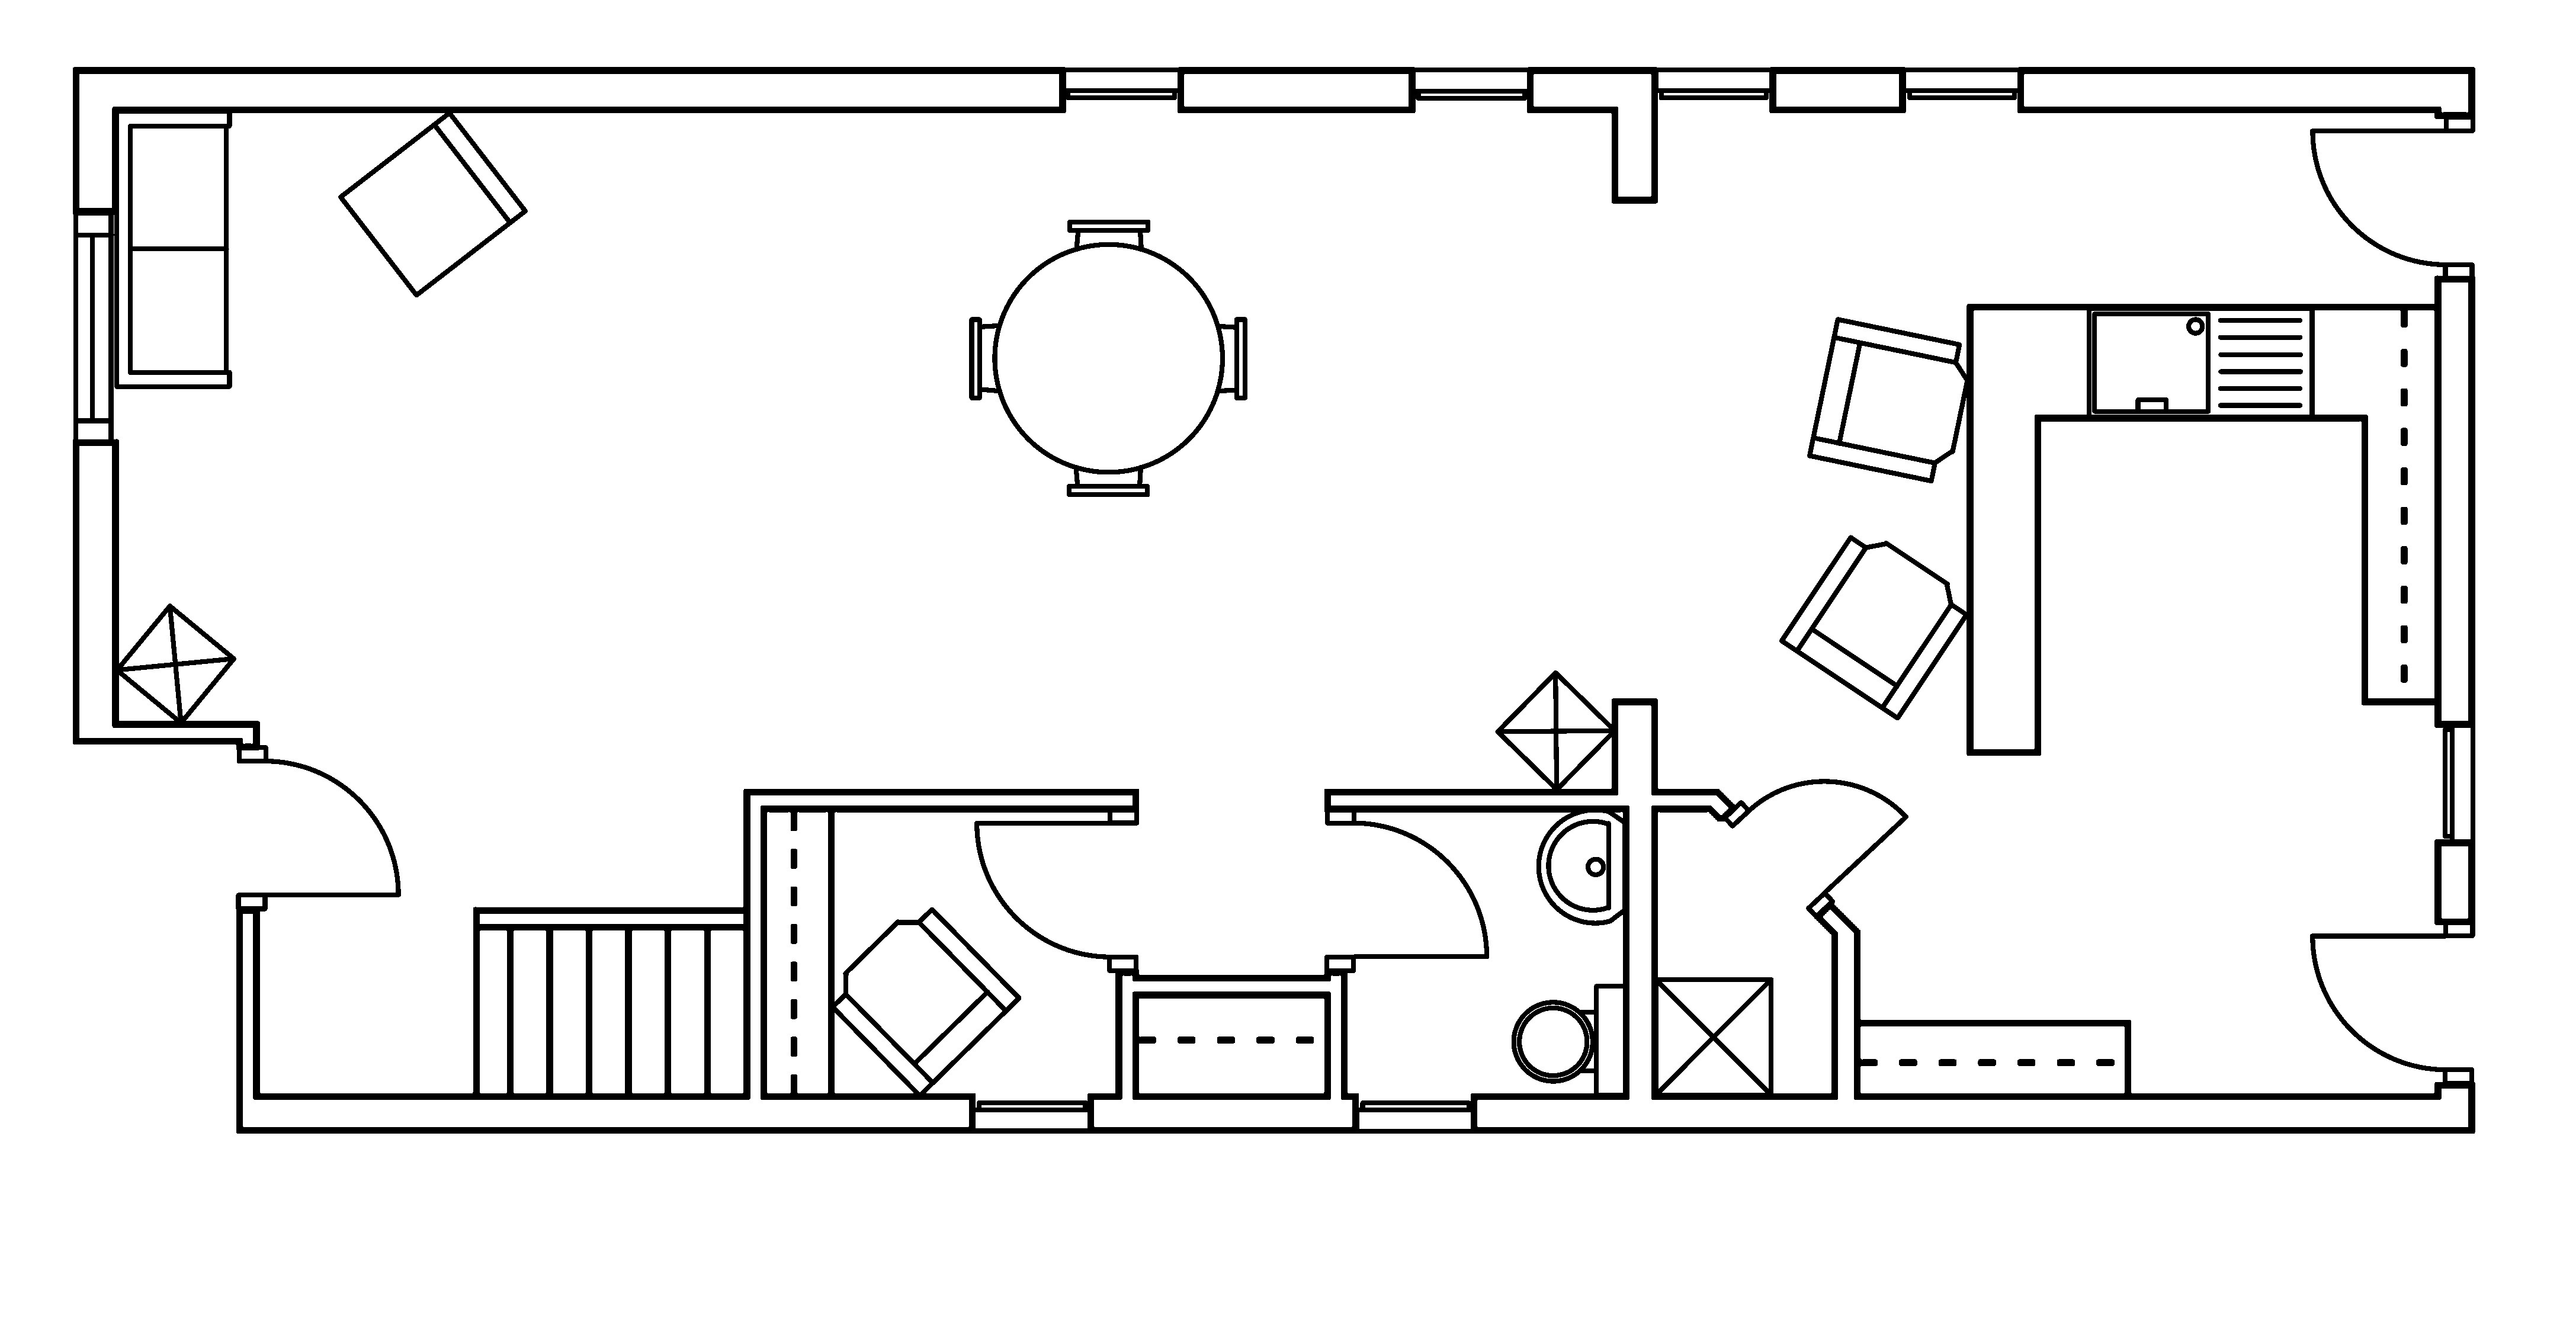armchair: (829, 905, 1022, 1099), (1777, 533, 1969, 720), (1806, 316, 1971, 483)
coffee_table: (113, 602, 237, 725), (1493, 670, 1618, 792), (1651, 976, 1774, 1097)
large_sink: (1512, 983, 1628, 1097)
large_sofa: (113, 108, 232, 389)
round_table: (969, 219, 1248, 496)
sink: (2085, 305, 2314, 421)
small_sink: (1535, 808, 1628, 925)
small_sofa: (336, 109, 528, 298)
